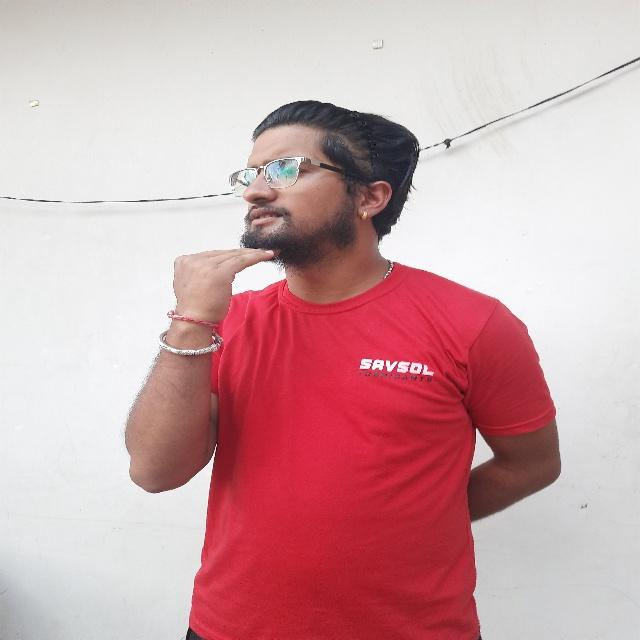Chin Flick: (152, 87, 408, 349)
